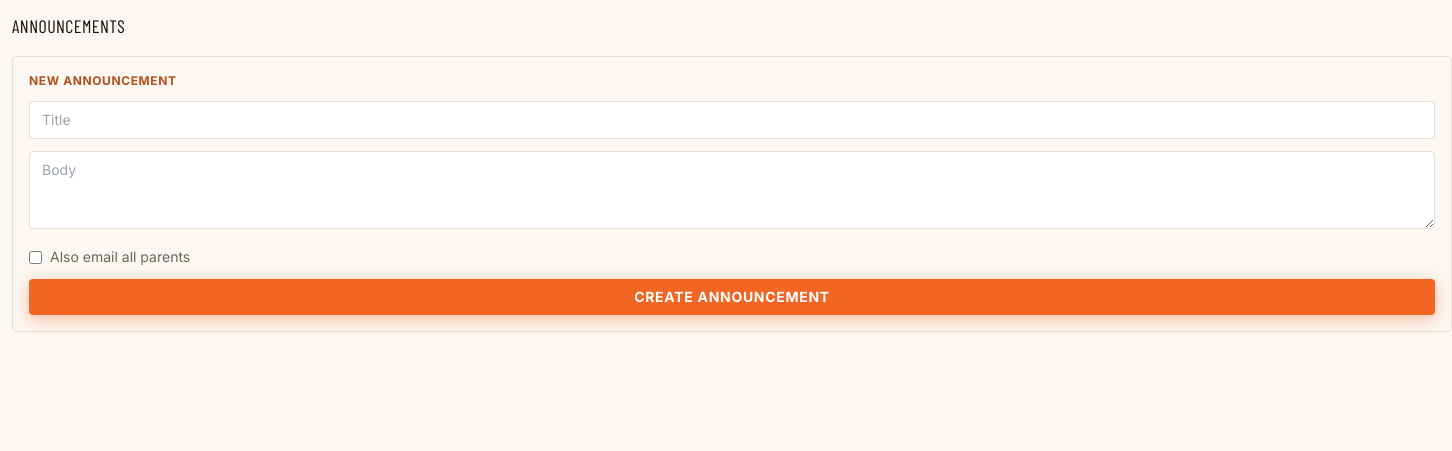
Test case: AnnouncementsAdmin › passes the "email all parents" choice through and reports the result
The width and height of the screenshot is (1452, 451).
Type "Kit day" into the field with placeholder "Title".
click(732, 120); type("Kit day")  # box [29,101,1435,139]
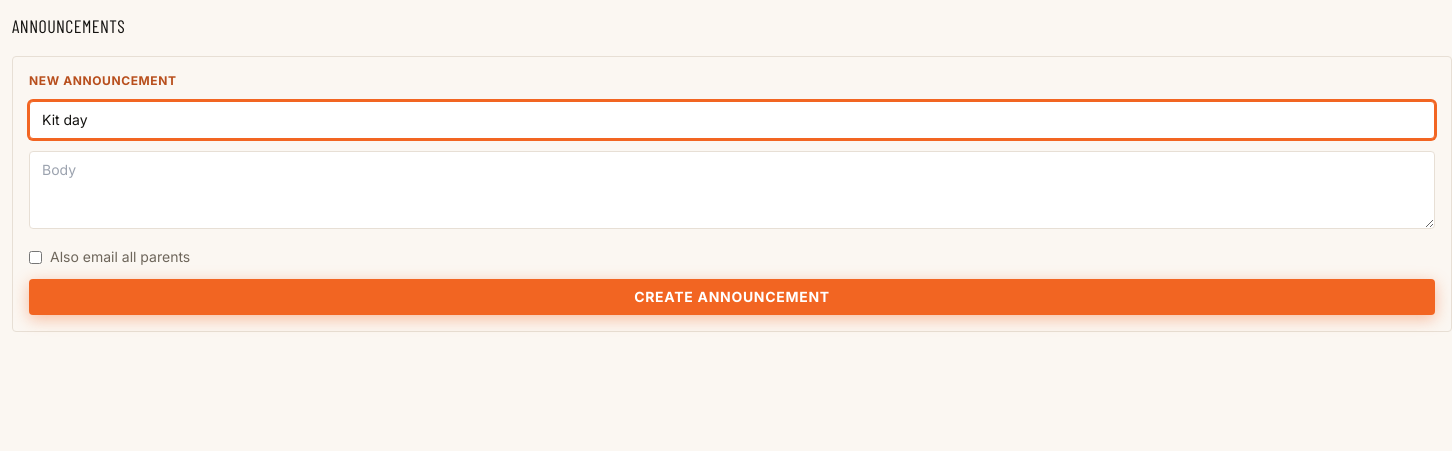
Type "Bring $10." into the text box with placeholder "Body".
click(732, 190); type("Bring $10.")  # box [29,151,1435,229]
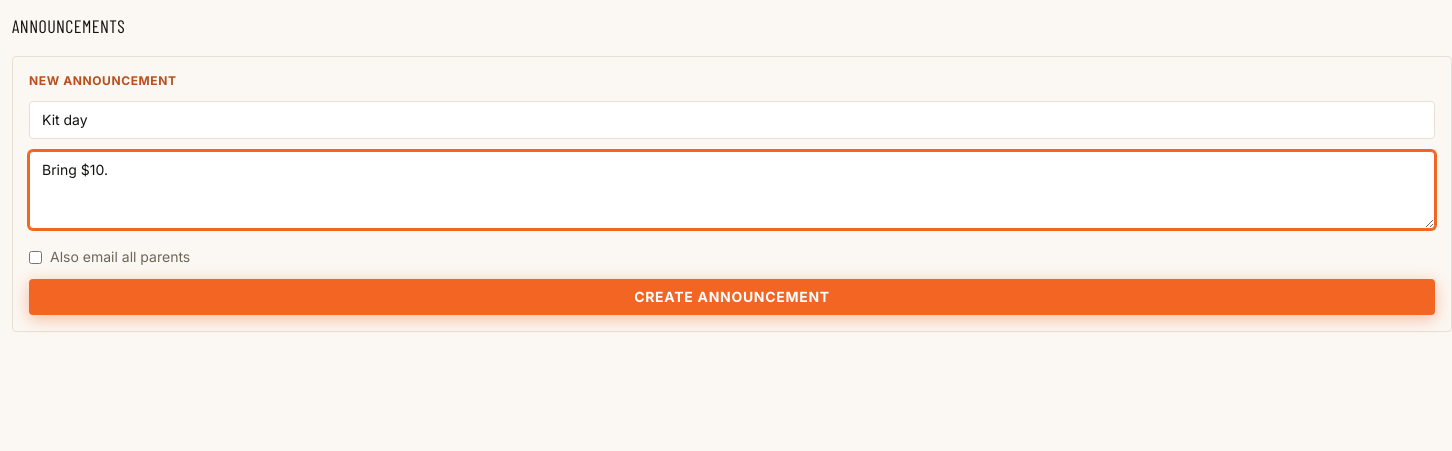
Click the checkbox labelled "Also email all parents".
click(36, 257)  # box [29,250,42,264]
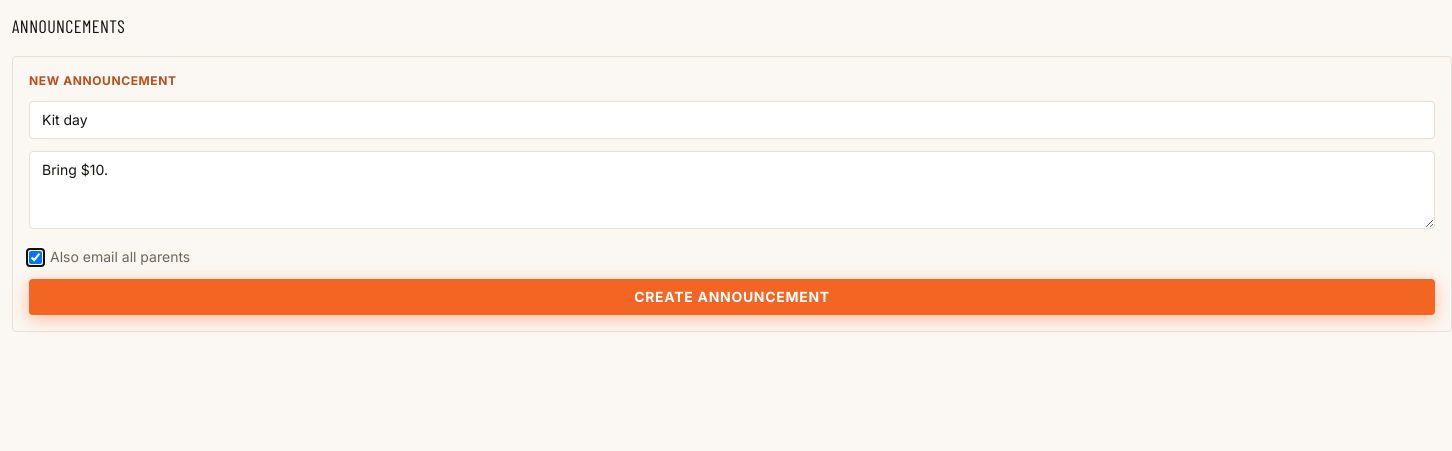
Click the button "Create Announcement".
click(732, 297)  # box [29,279,1435,315]
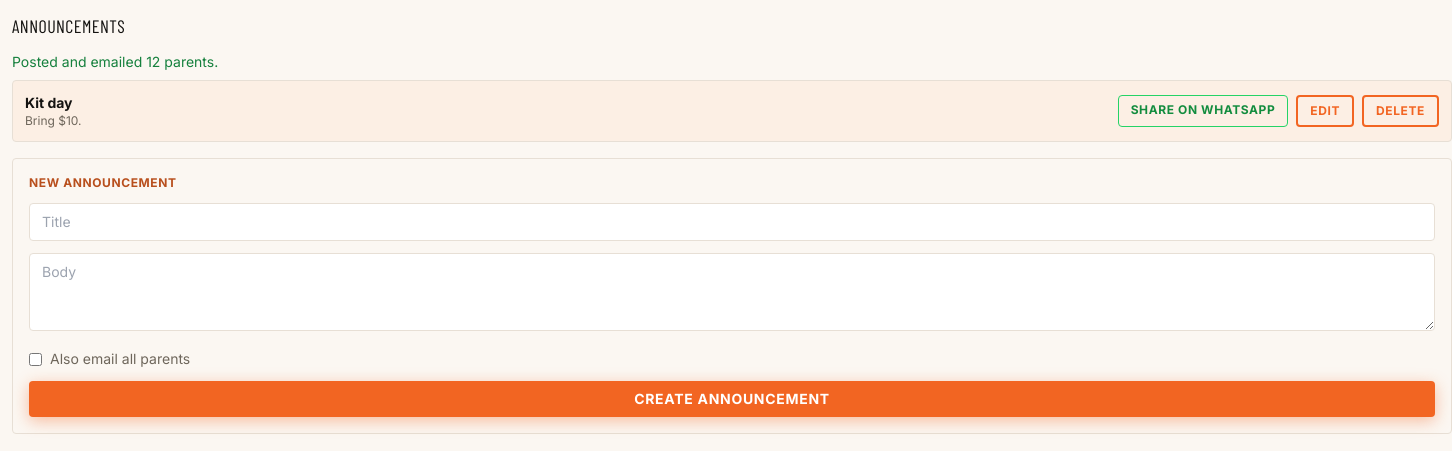
Expected: the text "Posted and emailed 12 parents." is shown, [12,53,218,70]
